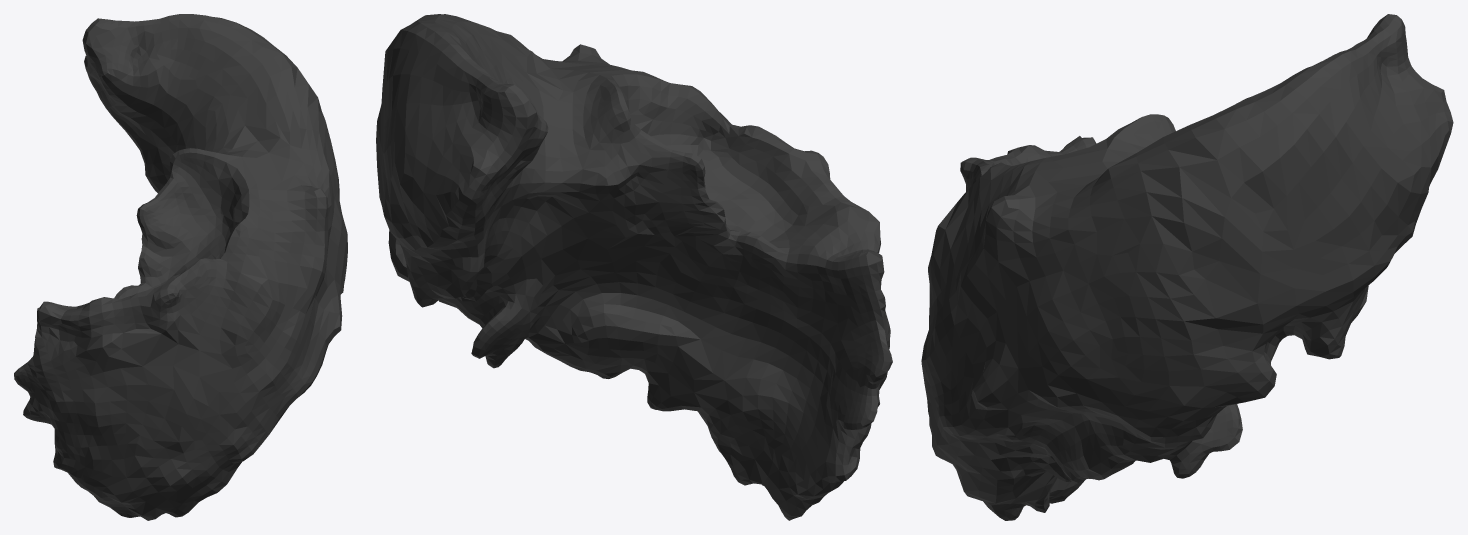
The model's file is R_sided_VENTRICLE.glb.
The picture shows the model from 3 angles, left to right: view 1: azimuth 30°, elevation 25°; view 2: azimuth 150°, elevation 25°; view 3: azimuth 270°, elevation 25°; orthographic projection. The views are drawn at different scales.
Parts seen in each view (by area): view 1: R_sided_VENTRICLE; view 2: R_sided_VENTRICLE; view 3: R_sided_VENTRICLE.
Boxes of the visible parts, x1=… form: R_sided_VENTRICLE: x1=14, y1=14, x2=347, y2=520; R_sided_VENTRICLE: x1=376, y1=14, x2=892, y2=520; R_sided_VENTRICLE: x1=921, y1=14, x2=1453, y2=520.
Size of the model in its own units: 8.15 by 8.93 by 7.76.
Materials: 1 (1 with a texture image).
